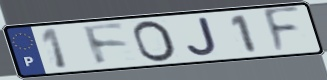1: (41, 26, 69, 71), (229, 14, 260, 54)
F: (80, 22, 131, 68), (261, 4, 303, 57)
J: (185, 16, 219, 58)
O: (131, 19, 179, 64)
